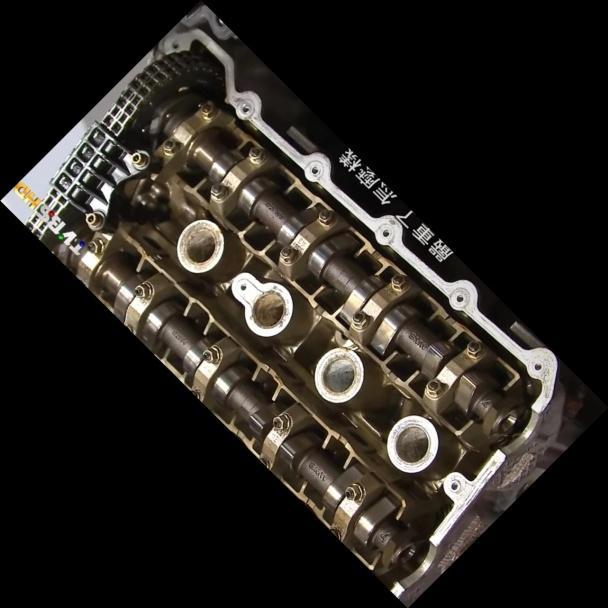hole: (447, 478, 461, 492), (530, 359, 543, 372), (308, 163, 320, 176), (379, 226, 391, 238), (453, 291, 464, 302), (239, 102, 250, 113)
